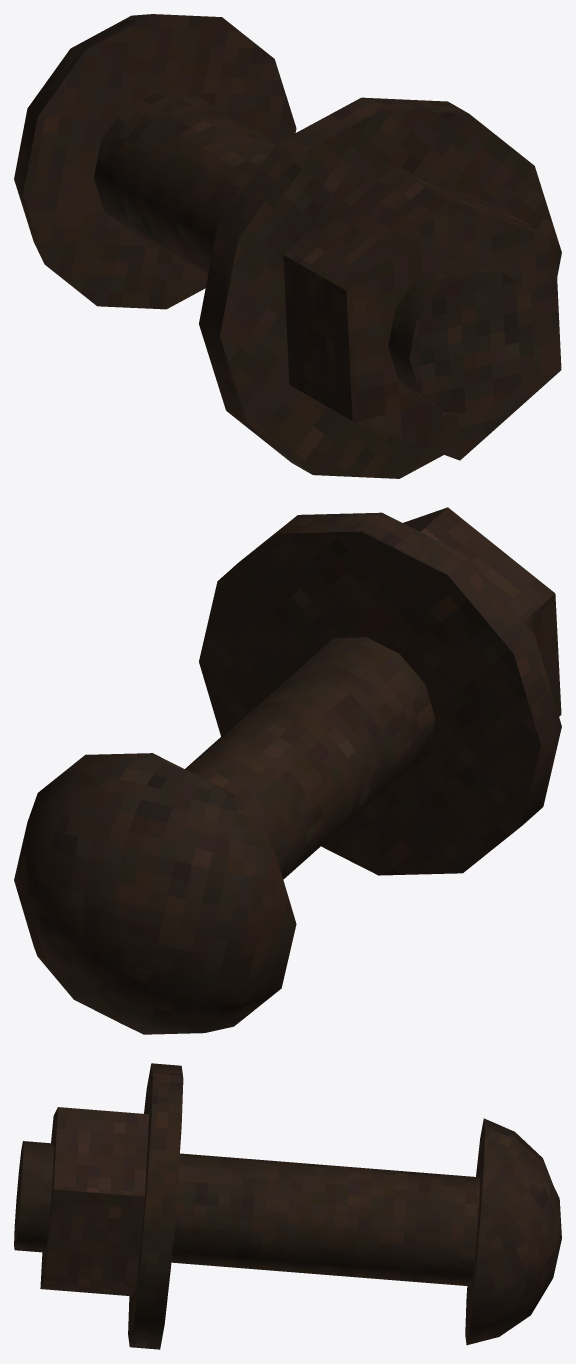
Rendered from bolt_mx_1.glb.
3 views of the same model, one above another, from view 1: azimuth 30°, elevation 25°; view 2: azimuth 150°, elevation 25°; view 3: azimuth 270°, elevation 25° (orthographic). The views are drawn at different scales.
Visible parts, largest first — view 1: bolt_mx_1; view 2: bolt_mx_1; view 3: bolt_mx_1.
Part boxes in pixels (x1,y1,x2,y2): bolt_mx_1: [14, 14, 561, 478]; bolt_mx_1: [14, 507, 561, 1034]; bolt_mx_1: [14, 1063, 561, 1349].
Bounding box in the file's own units: 0.0936 × 0.0941 × 0.1794.
1 material, 1 textured.
